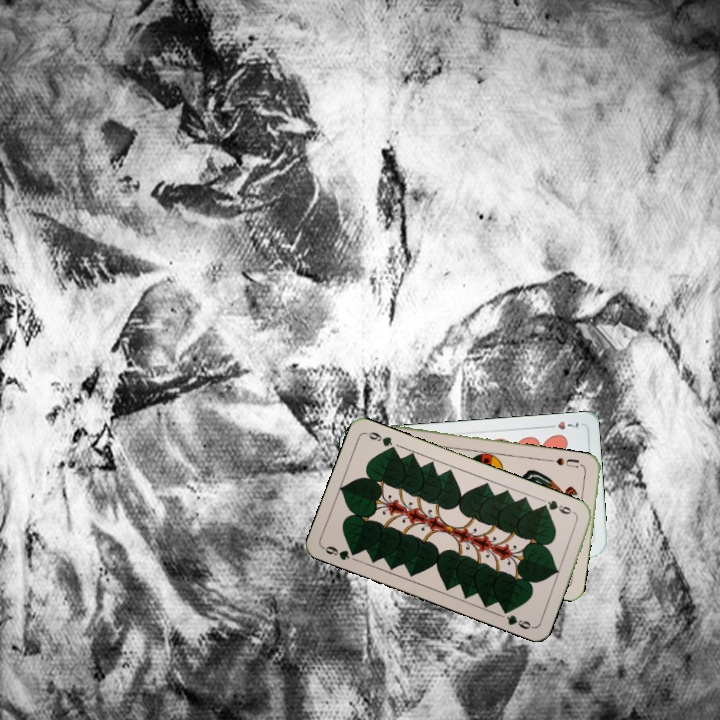G9: (319, 542, 361, 563), (537, 496, 578, 517)
H7: (542, 417, 581, 432)
SU: (546, 453, 581, 470)
